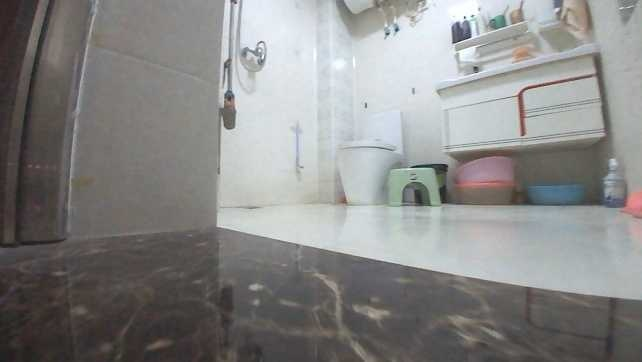plastic_stool: (385, 164, 442, 206)
toilet: (332, 106, 407, 205)
washstand: (434, 40, 610, 162)
